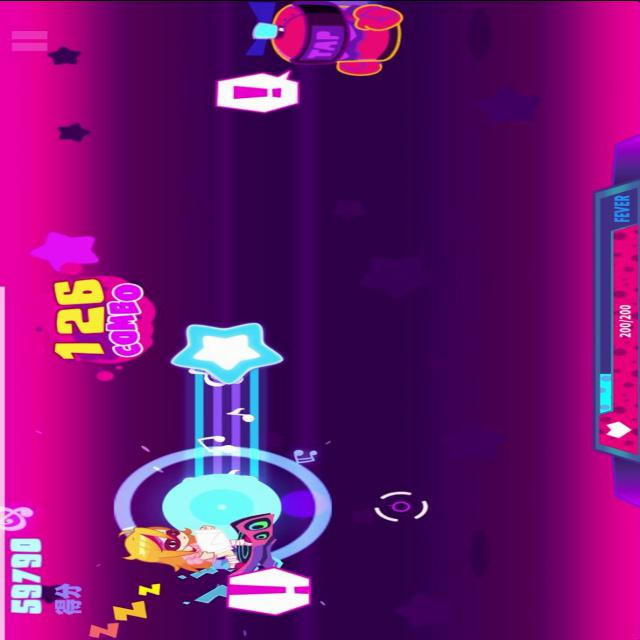hold: (168, 318, 288, 522)
tapboss: (233, 0, 413, 83)
